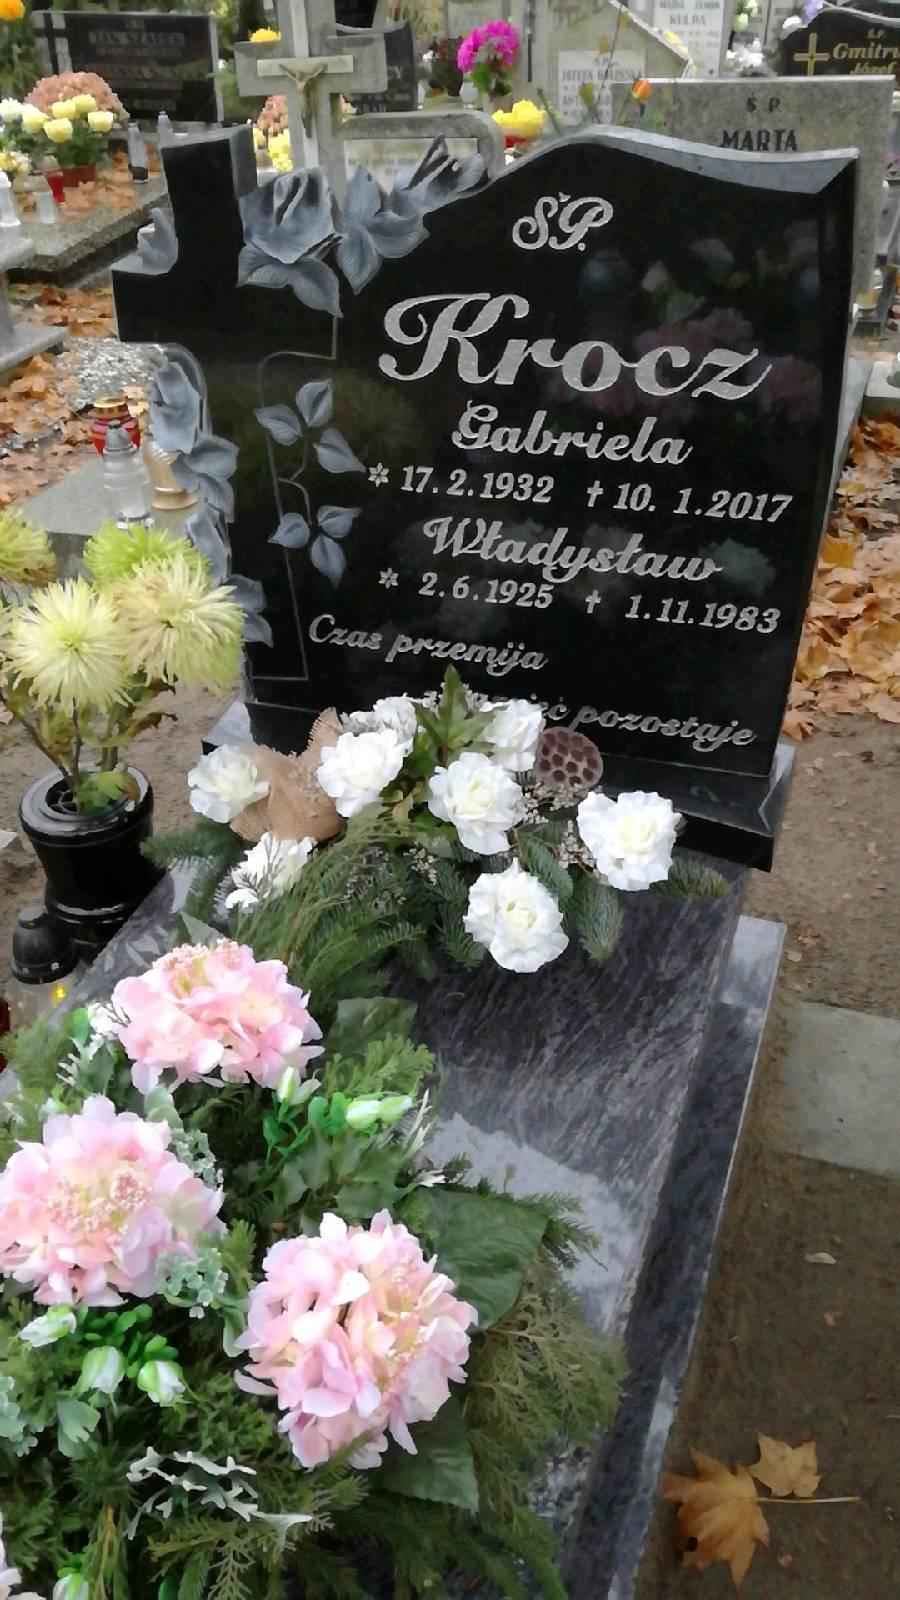upright: (105, 122, 896, 863)
